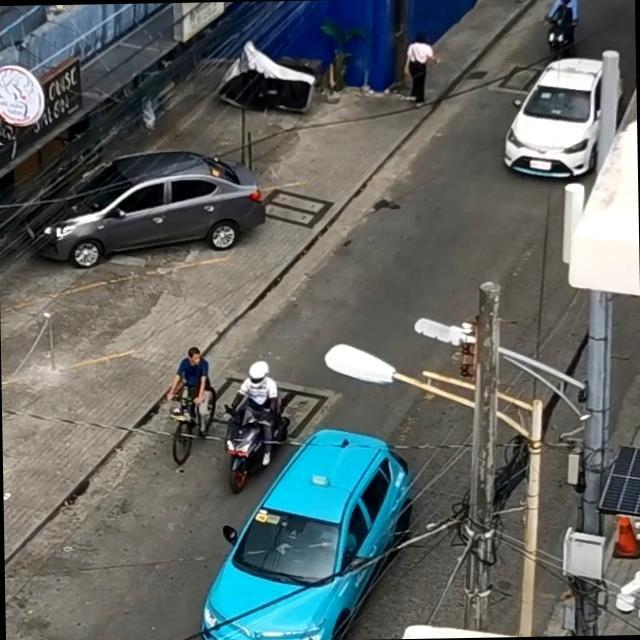Car: (193, 428, 405, 640), (30, 149, 256, 265), (500, 56, 608, 180)
